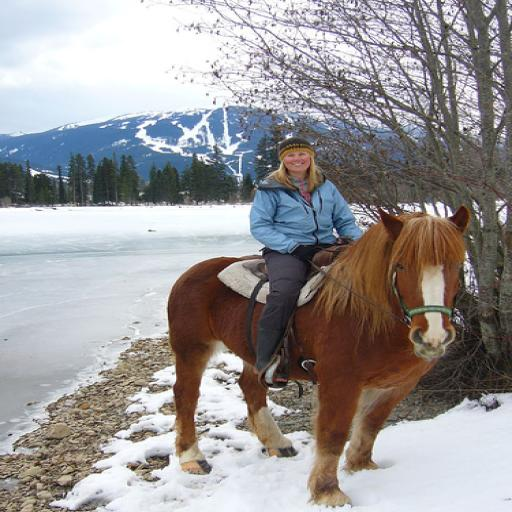animal: (166, 205, 471, 510)
person: (246, 137, 365, 392)
